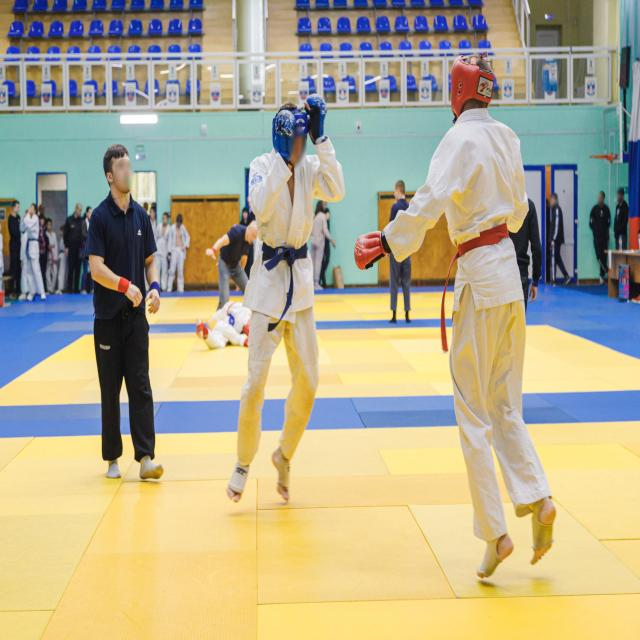Person: (396, 24, 571, 600), (219, 99, 341, 534), (90, 141, 164, 496), (390, 170, 416, 328), (580, 185, 614, 280), (546, 172, 572, 288), (3, 187, 27, 303), (608, 180, 631, 286), (26, 192, 47, 308), (62, 200, 84, 296), (310, 195, 334, 279), (171, 204, 192, 300), (81, 201, 94, 296), (36, 192, 49, 268), (48, 217, 60, 296), (160, 206, 172, 284)
